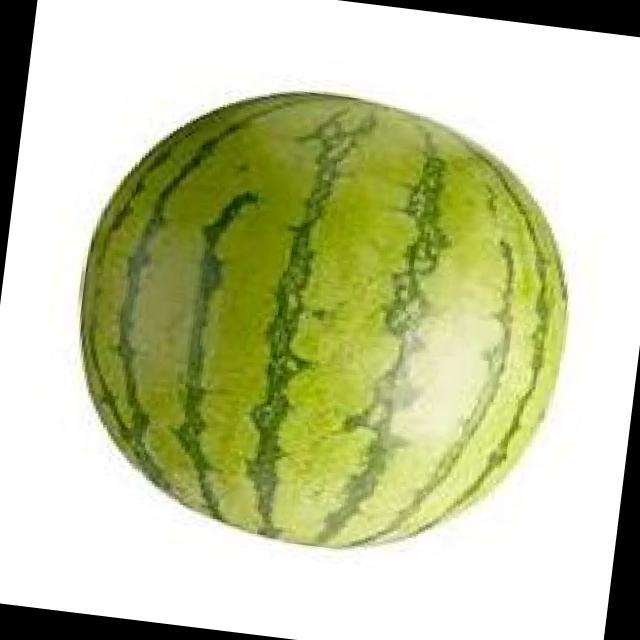watermelon: (81, 93, 566, 546)
